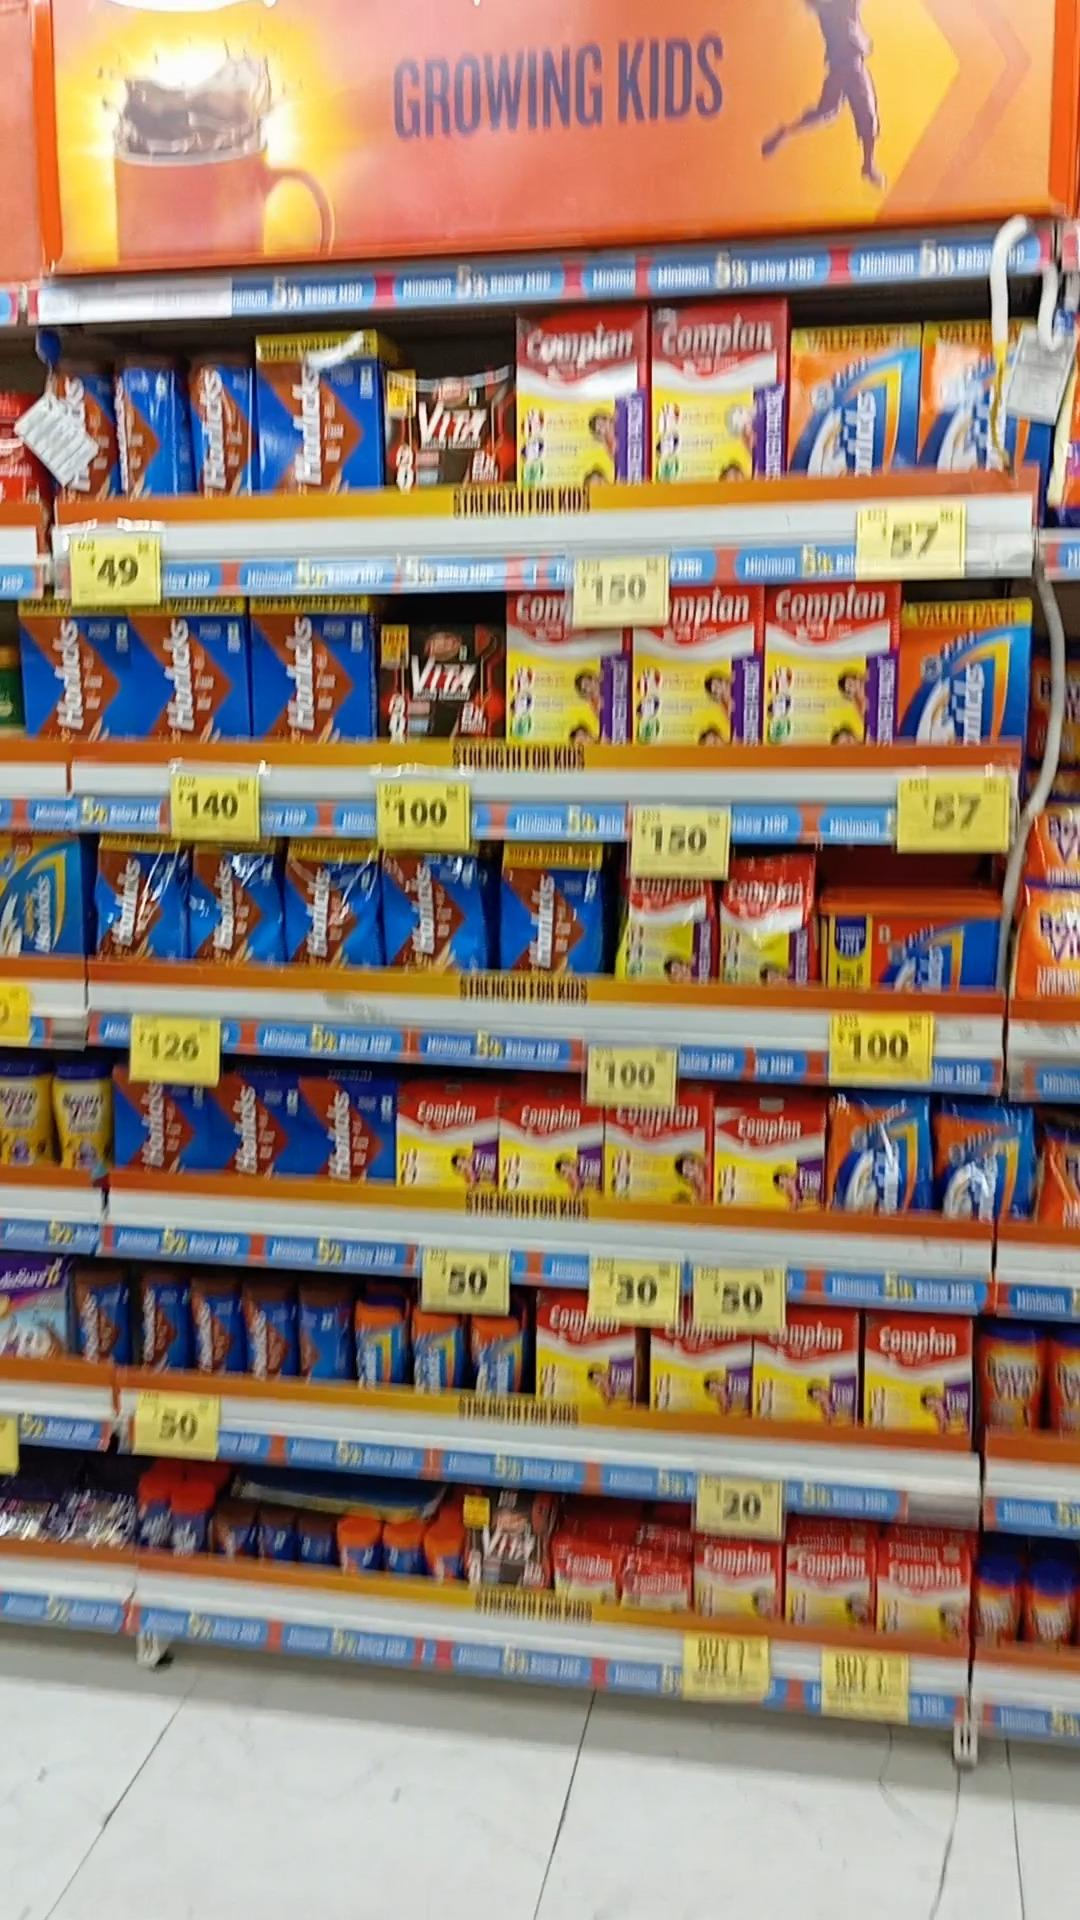BOURN_VITA_200_G_JAR: (1027, 1573, 1072, 1650), (977, 1572, 1019, 1644)
BOURN_VITA_500_G_JAR: (980, 1320, 1038, 1435), (1039, 1331, 1080, 1437)
BOURN_VITA_CHAMPS_500_G_JAR: (53, 1062, 108, 1176), (0, 1054, 44, 1172)
COMPLAN_CHOCOLATE_1_KG_PACK: (650, 301, 778, 475), (516, 310, 640, 481), (771, 582, 890, 749), (636, 587, 753, 752), (502, 592, 612, 746)
COMPLAN_CHOCOLATE_200_GMS_PACK: (699, 1547, 775, 1623)
COMPLAN_CHOCOLATE_500_GMS_PACK: (861, 1316, 967, 1439), (531, 1292, 630, 1407), (497, 1098, 605, 1201), (398, 1087, 493, 1184)
COMPLAN_CREAMY_CLASSIC_500_G_PACK: (711, 1101, 820, 1216)
COMPLAN_KESAR_BADAM_200_GMS_PACK: (787, 1560, 870, 1636)
COMPLAN_RC_POUCH_700_GMS_12: (723, 860, 811, 989), (622, 882, 708, 981)
HORLICK_CHOCOLATE_1_KG_JAR: (45, 356, 111, 497), (191, 349, 245, 495), (117, 352, 165, 498)
HORLICK_CHOCOLATE_1_KG_PACK: (255, 332, 375, 495), (124, 596, 241, 741), (255, 595, 363, 742), (21, 597, 116, 731)
HORLICK_CHOCOLATE_500_G_JAR: (74, 1270, 124, 1364), (243, 1284, 287, 1375), (133, 1275, 175, 1370), (187, 1282, 228, 1370)
HORLICK_CHOCOLATE_500_G_PACK: (303, 1076, 394, 1182), (116, 1081, 207, 1174), (216, 1075, 295, 1176)
HORLICK_CHOCOLATE_750_G_POUCH: (500, 841, 597, 965), (382, 843, 480, 967), (285, 840, 375, 967), (190, 837, 278, 963), (94, 837, 178, 961)
HORLICK_CLASSIC_MALT_500_G_JAR: (352, 1299, 404, 1386), (471, 1316, 524, 1391), (406, 1315, 458, 1390)
HORLICK_CLASSIC_MALT_500_G_PACK: (789, 326, 915, 479), (927, 318, 1047, 477), (898, 600, 1026, 744)
HORLICK_CLASSIC_MALT_750_G_POUCH: (833, 1096, 934, 1220), (938, 1108, 1025, 1221)
HORLICK_MALT_1_KG_CONTAINER: (835, 899, 1002, 996)
PEDIASURE_7_PLUS_CHOCOLATE_400_G_PACK: (0, 1261, 67, 1367)
